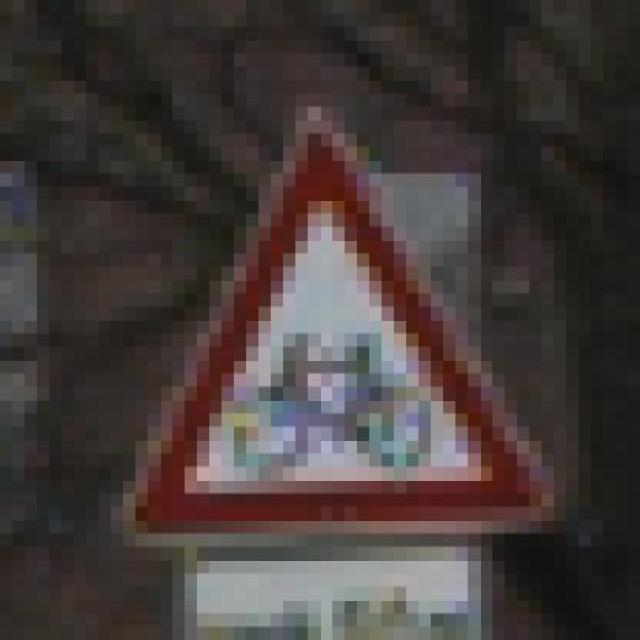CYCLE ROUTE AHEAD WARNING: (74, 106, 554, 560)
